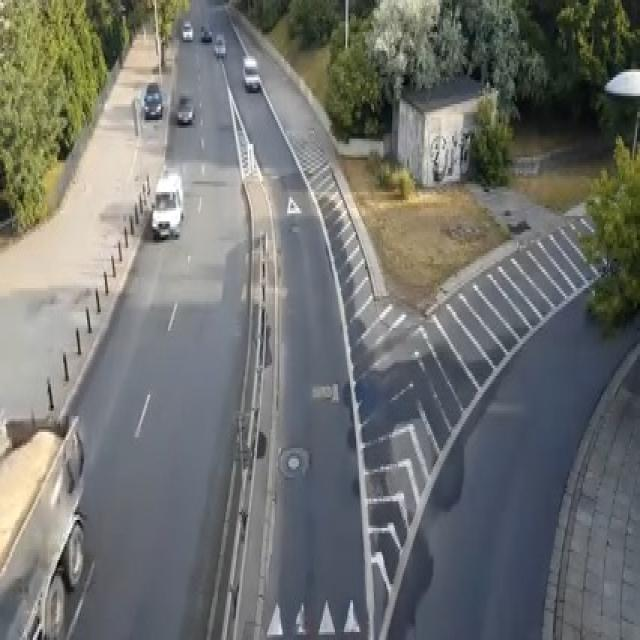car: (150, 168, 183, 240), (141, 80, 162, 117), (242, 56, 260, 91), (176, 93, 194, 123), (213, 32, 226, 59), (182, 19, 194, 40), (200, 24, 212, 40)
